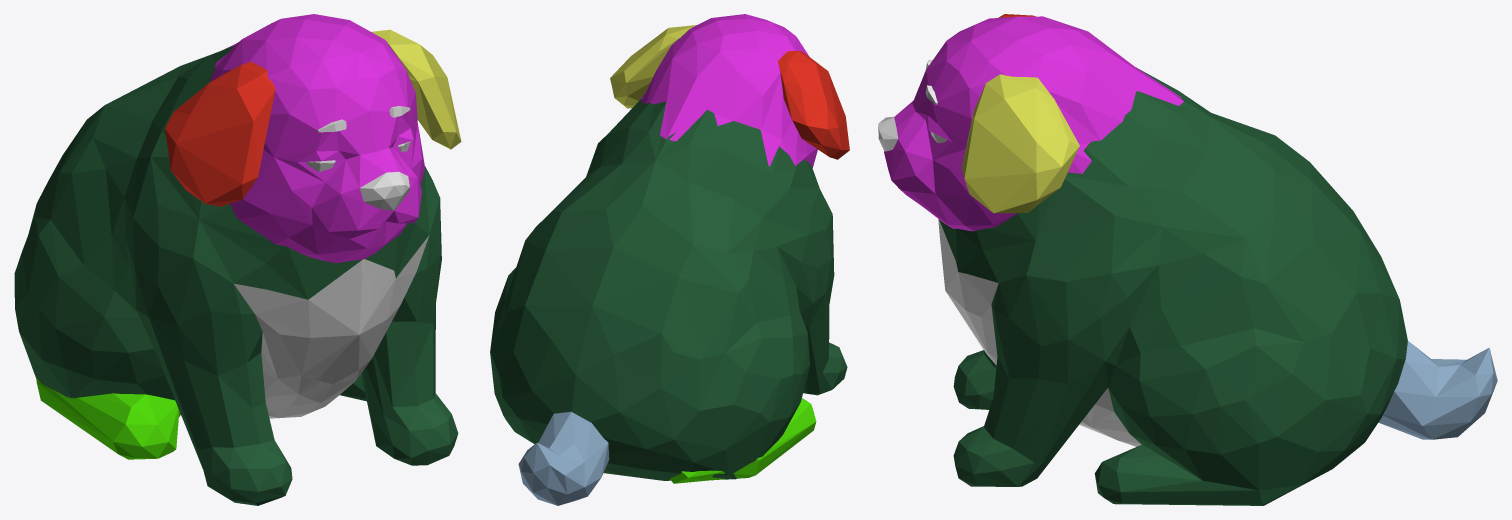
File: dognormal.fbx
3 renders of one model, left to right at view 1: azimuth 30°, elevation 25°; view 2: azimuth 150°, elevation 25°; view 3: azimuth 270°, elevation 25°, orthographic. The views are drawn at different scales.
Visible parts, largest first — view 1: dogbody, dogbelly, dognose; view 2: dogbody; view 3: dogbody, dogbelly.
Boxes of the visible parts, x1,y1,x2,y2 form: dogbody: (14,14,461,505); dogbelly: (234,235,429,418); dognose: (360,172,409,210); dogbody: (490,14,849,505); dogbody: (884,14,1497,505); dogbelly: (938,219,1141,446).
Bounding box in the file's own units: 64.98 × 75.84 × 104.
